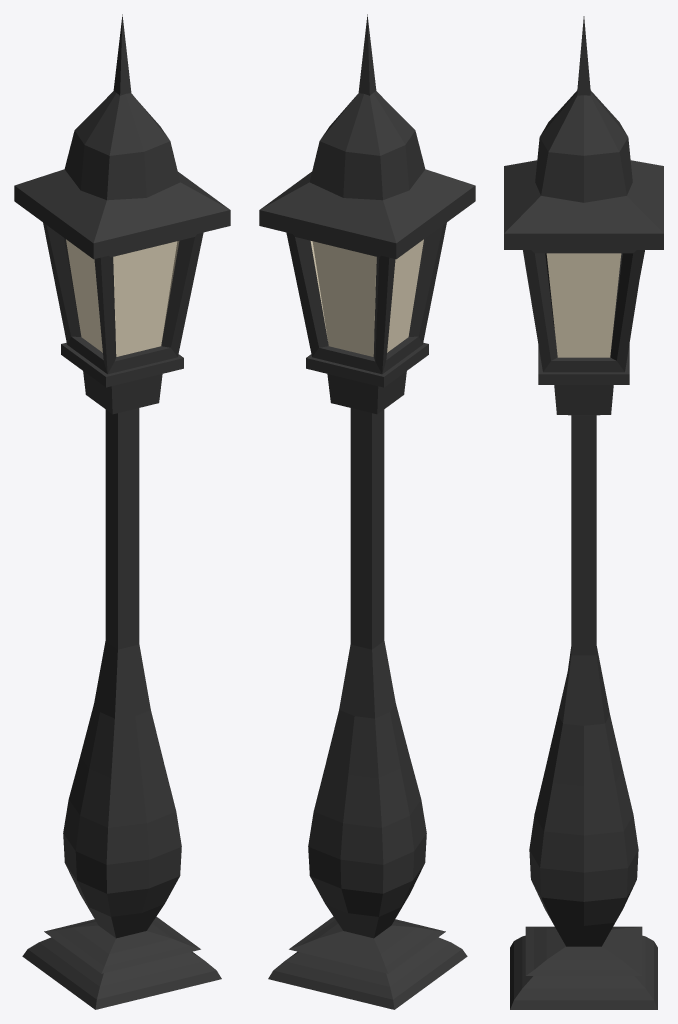
The model's file is fantasy_lamp_1.fbx.
The picture shows the model from 3 angles, left to right: view 1: azimuth 30°, elevation 25°; view 2: azimuth 150°, elevation 25°; view 3: azimuth 270°, elevation 25°; orthographic projection.
Parts seen in each view (by area): view 1: Cube.232, Cube.231; view 2: Cube.232, Cube.231; view 3: Cube.232, Cube.231.
Part boxes in pixels (left/top/right/bottom): Cube.232: left=14, top=14, right=230, bottom=1009; Cube.231: left=66, top=239, right=179, bottom=356; Cube.232: left=259, top=14, right=475, bottom=1009; Cube.231: left=310, top=239, right=423, bottom=356; Cube.232: left=504, top=16, right=663, bottom=1009; Cube.231: left=546, top=253, right=621, bottom=357.
Size of the model in its own units: 43.58 by 290 by 43.58.
